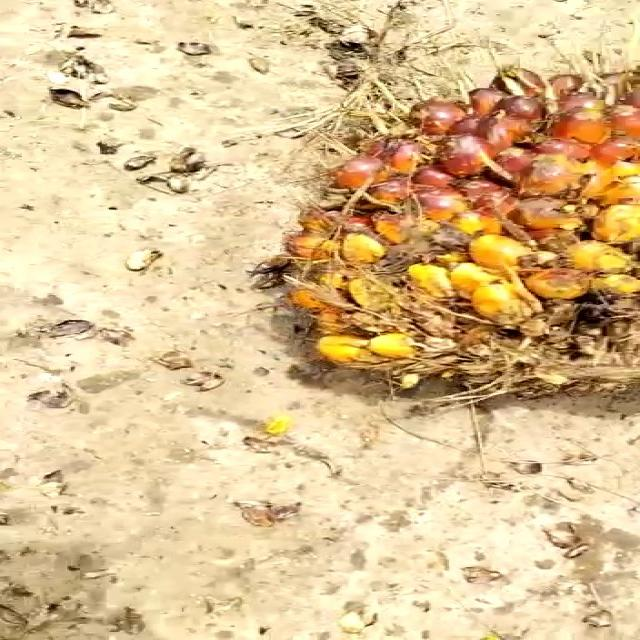palm oil: (270, 63, 640, 431)
